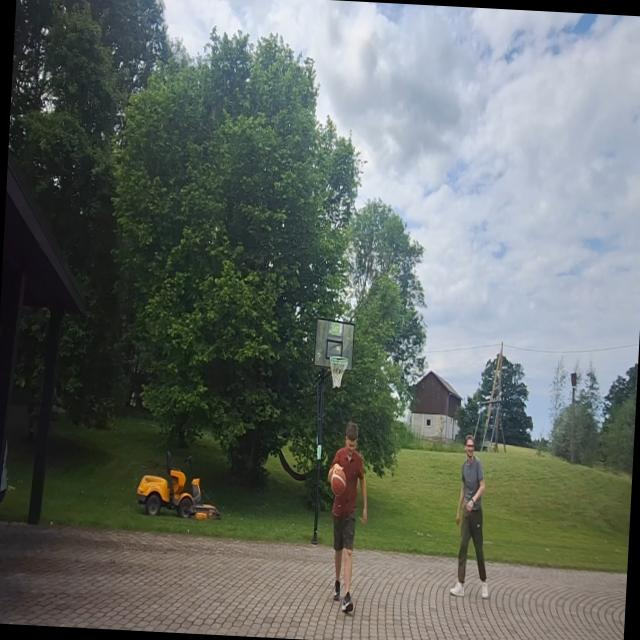ball: (330, 464, 348, 498)
basket: (328, 354, 350, 393)
player: (320, 419, 374, 620), (448, 430, 498, 602)
